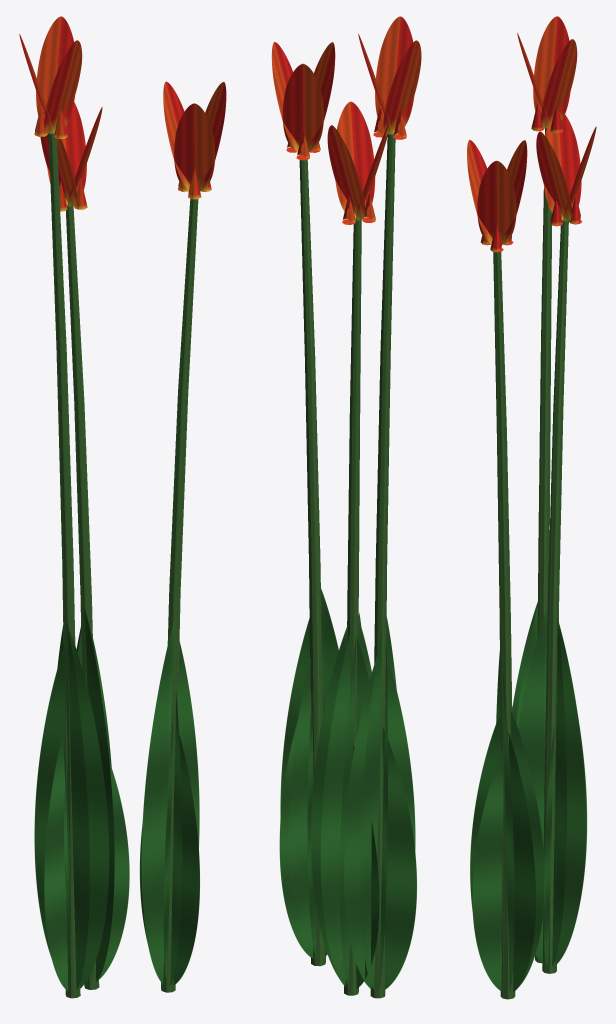
File: heliconia_bloom_v01.glb
3 renders of one model, left to right at view 1: azimuth 30°, elevation 25°; view 2: azimuth 150°, elevation 25°; view 3: azimuth 270°, elevation 25°, orthographic. The views are drawn at different scales.
Parts seen in each view (by area): view 1: heliconia_bloom_v01; view 2: heliconia_bloom_v01; view 3: heliconia_bloom_v01.
Boxes of the visible parts, x1,y1,x2,y2 form: heliconia_bloom_v01: (19,16,226,998); heliconia_bloom_v01: (271,16,421,998); heliconia_bloom_v01: (467,16,596,999).
Bounding box in the file's own units: 0.3471 × 1.8 × 0.2531.
3 materials, 3 textured.
